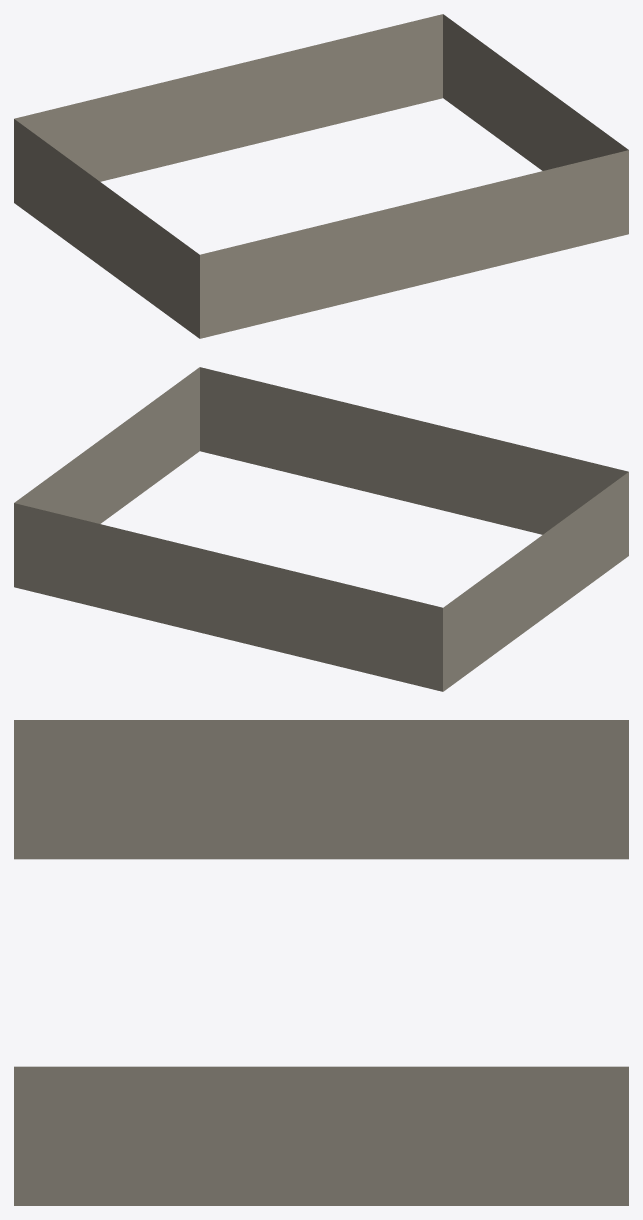
The model's file is 0694-Buildings-shell-pieces-facade-bay-wall-round-an-opening-reveals-sill-head-emitBa.glb.
3 renders of one model, top to bottom at view 1: azimuth 30°, elevation 25°; view 2: azimuth 150°, elevation 25°; view 3: azimuth 270°, elevation 25°, orthographic. The views are drawn at different scales.
Parts seen in each view (by area): view 1: emitBay; view 2: emitBay; view 3: emitBay.
Part boxes in pixels (x1,y1,x2,y2): emitBay: (14, 14, 628, 338); emitBay: (14, 367, 628, 691); emitBay: (14, 720, 628, 1205).
Size of the model in its own units: 24 by 4.5 by 18.
